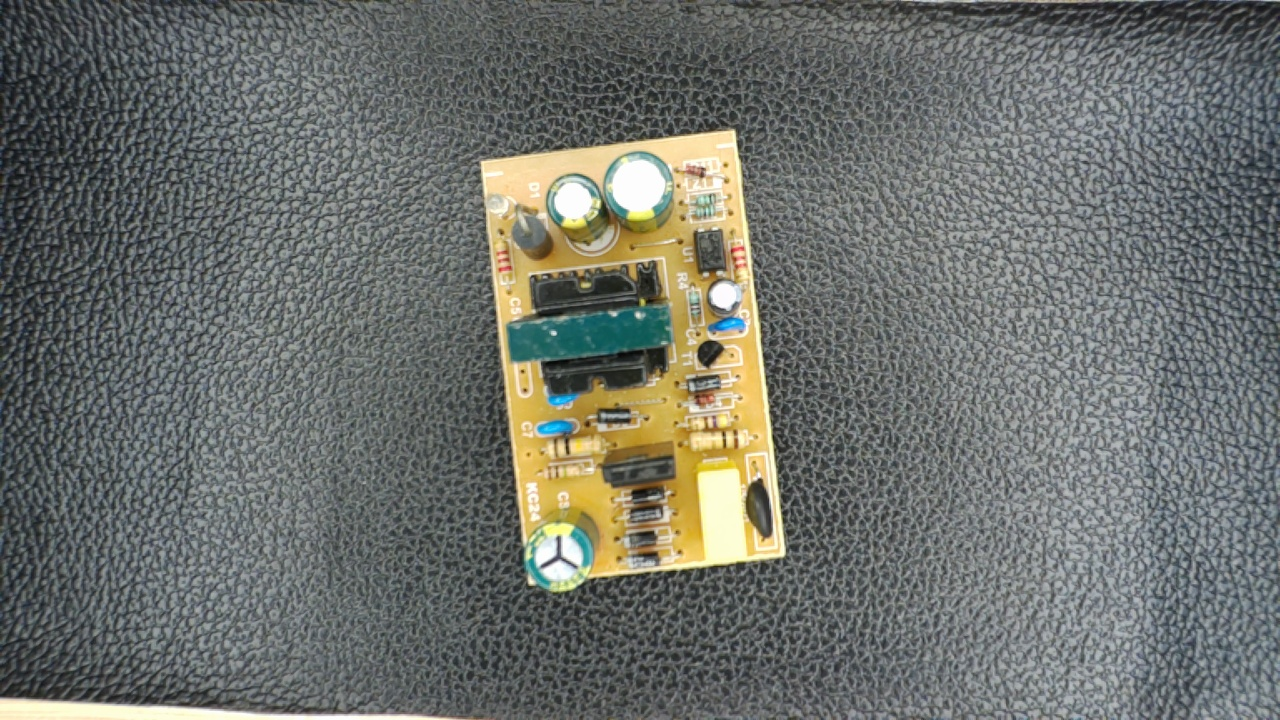fuse: (743, 456, 777, 546)
hv_capacitor: (524, 510, 603, 594)
optocoupler: (687, 221, 734, 279)
